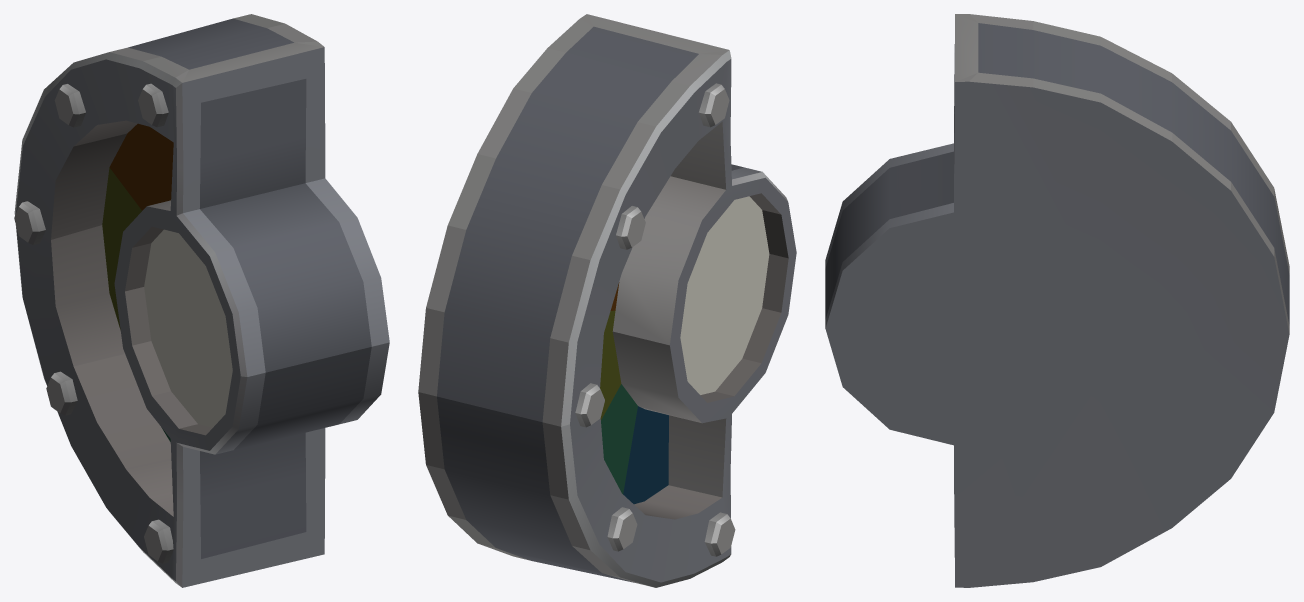
The model's file is Trampoline3000Gauge.fbx.
3 views of the same model, side by side, from view 1: azimuth 30°, elevation 25°; view 2: azimuth 150°, elevation 25°; view 3: azimuth 270°, elevation 25° (orthographic).
Parts seen in each view (by area): view 1: Trampoline3000Gauge; view 2: Trampoline3000Gauge; view 3: Trampoline3000Gauge.
Part boxes in pixels (x1,y1,x2,y2): Trampoline3000Gauge: (14,14,389,587); Trampoline3000Gauge: (418,14,796,587); Trampoline3000Gauge: (825,14,1289,587).
Bounding box in the file's own units: 20440 × 63968 × 53135.
